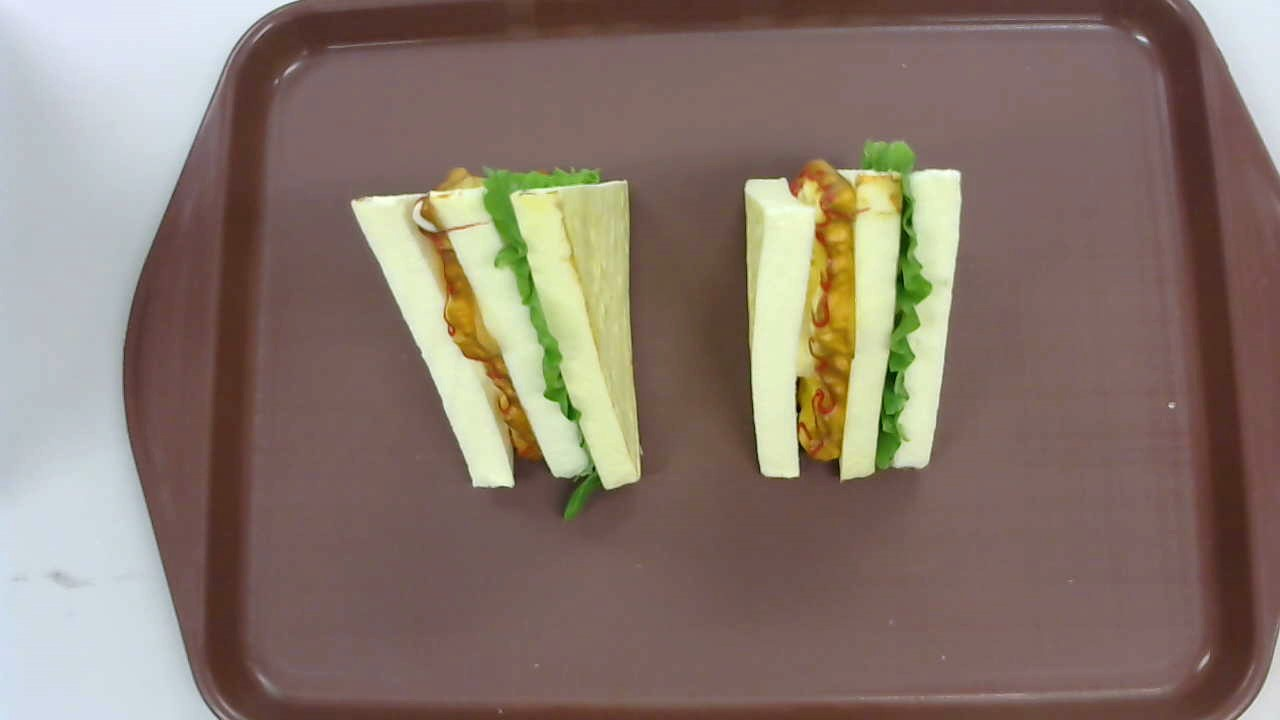sandwich: (350, 163, 644, 522), (740, 139, 963, 484)
